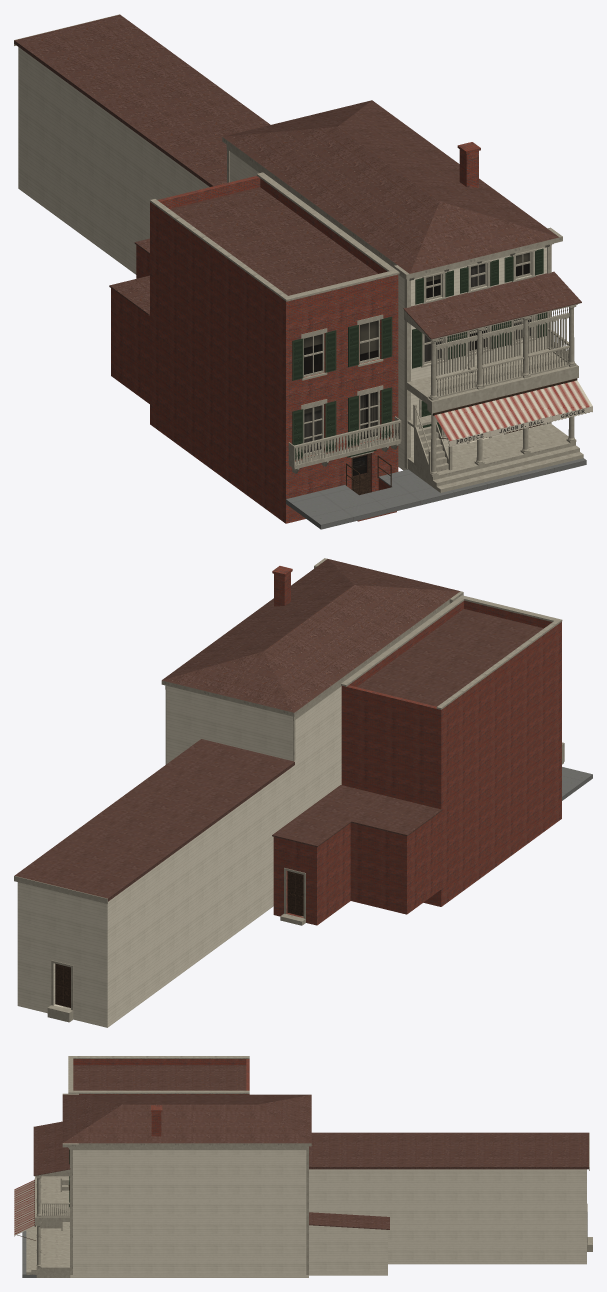
File: block-35-41.glb
The picture shows the model from 3 angles, top to bottom: view 1: azimuth 30°, elevation 25°; view 2: azimuth 150°, elevation 25°; view 3: azimuth 270°, elevation 25°; orthographic projection. The views are drawn at different scales.
Visible parts, largest first — view 1: Block3541; view 2: Block3541; view 3: Block3541.
Boxes of the visible parts, left/top/right/bottom form: Block3541: left=14, top=14, right=592, bottom=529; Block3541: left=14, top=558, right=592, bottom=1027; Block3541: left=14, top=1056, right=592, bottom=1277.
Size of the model in its own units: 12.22 by 11.45 by 33.76.
10 materials, 9 textured.
